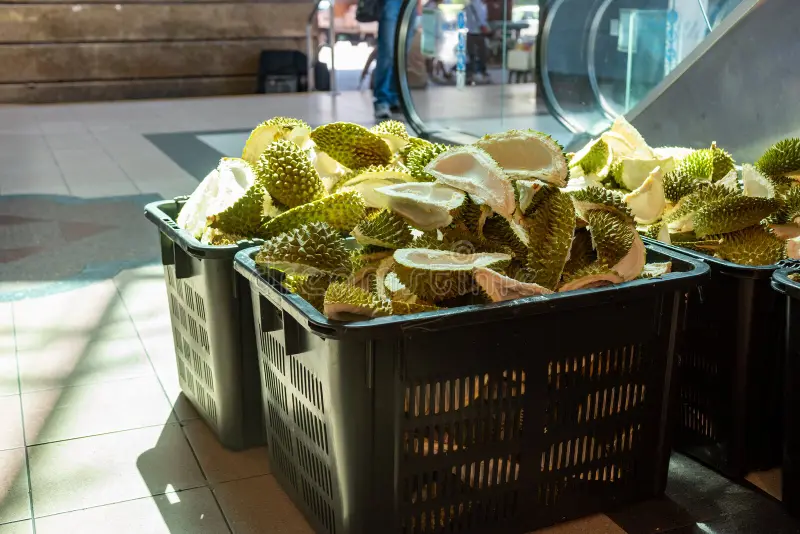bulk_waste: (235, 243, 706, 533), (145, 117, 431, 449), (596, 117, 799, 477)
